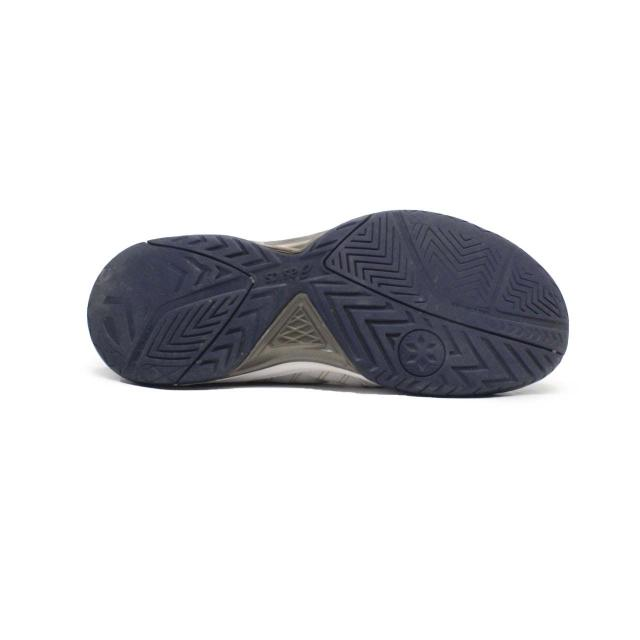outersole: (87, 212, 571, 397)
